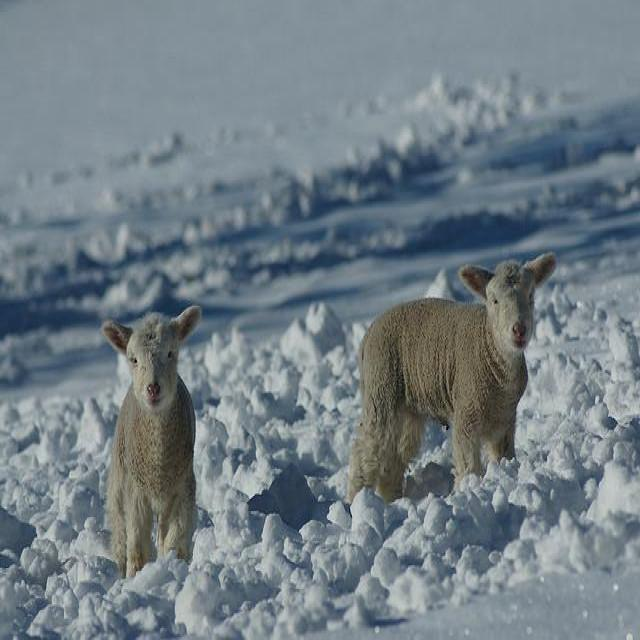Sheep: (347, 252, 558, 504), (103, 306, 202, 584)
